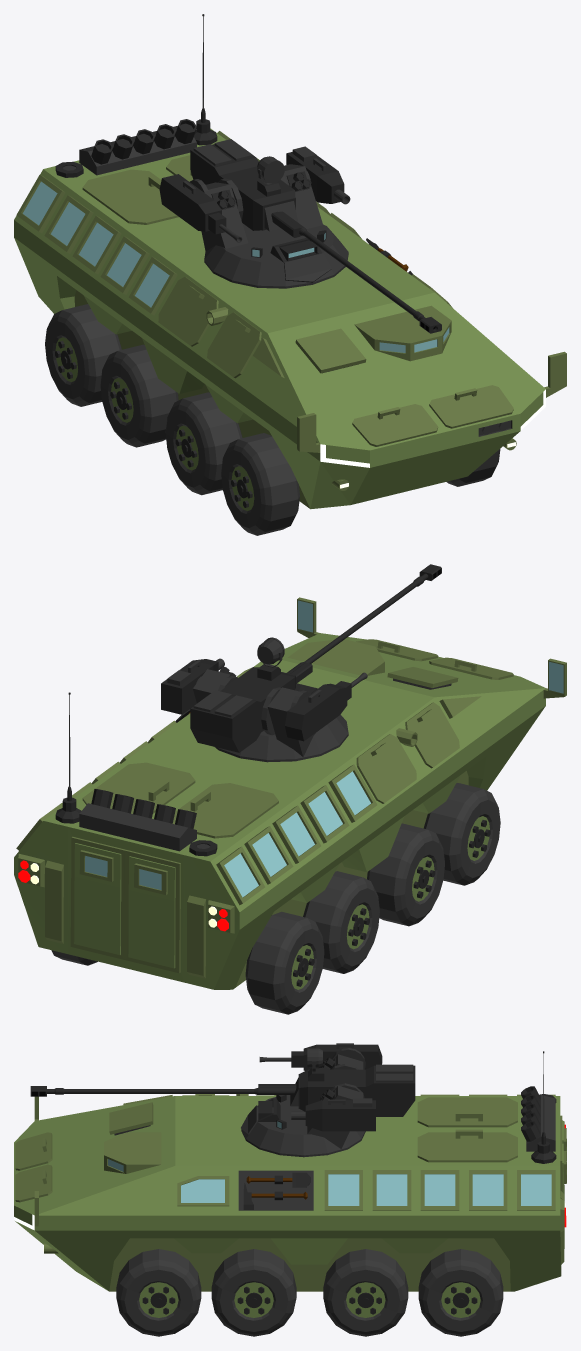
File: ifv.glb
3 views of the same model, one above another, from view 1: azimuth 30°, elevation 25°; view 2: azimuth 150°, elevation 25°; view 3: azimuth 270°, elevation 25° (orthographic). The views are drawn at different scales.
Parts seen in each view (by area): view 1: Cube18_81, Cylinder40_44, Cylinder19_copy20_79, Cylinder19_copy25_76, Cylinder19_copy22_77, Cylinder19_copy26_75, Cube43_41, Cylinder47_35, Cube54_28, Cube62_20, Cylinder44_40, Cube54_copy55_27 (+4 smaller); view 2: Cube18_81, Cylinder19_copy26_75, Cylinder19_copy22_77, Cube43_41, Cylinder19_copy25_76, Cylinder19_copy20_79, Cylinder40_44, Cube54_28, Cylinder47_35, Cube54_copy55_27, Cube15_copy16_66, Cube15_67 (+6 smaller); view 3: Cube18_81, Cylinder19_80, Cylinder19_copy28_73, Cylinder19_copy27_74, Cylinder19_copy21_78, Cube43_41, Cylinder40_44, Cube54_copy55_27, Cylinder47_35, Cylinder44_40, Cube54_28, Cube62_20 (+4 smaller).
Boxes of the visible parts, x1,y1,x2,y2 form: Cube18_81: [14, 126, 566, 509]; Cylinder40_44: [204, 223, 348, 288]; Cylinder19_copy20_79: [221, 433, 299, 535]; Cylinder19_copy25_76: [100, 344, 178, 447]; Cylinder19_copy22_77: [165, 392, 242, 495]; Cylinder19_copy26_75: [45, 304, 121, 406]; Cube43_41: [190, 139, 298, 231]; Cylinder47_35: [354, 305, 451, 361]; Cube54_28: [159, 174, 226, 234]; Cube62_20: [295, 328, 366, 373]; Cylinder44_40: [271, 211, 441, 333]; Cube54_copy55_27: [286, 146, 344, 203]; Cube18_81: [14, 597, 566, 989]; Cylinder19_copy26_75: [245, 911, 324, 1014]; Cylinder19_copy22_77: [367, 823, 444, 926]; Cube43_41: [190, 664, 296, 752]; Cylinder19_copy25_76: [303, 871, 379, 973]; Cylinder19_copy20_79: [423, 783, 500, 885]; Cylinder40_44: [215, 683, 348, 762]; Cube54_28: [285, 681, 351, 741]; Cylinder47_35: [287, 639, 384, 675]; Cube54_copy55_27: [161, 659, 218, 714]; Cube15_copy16_66: [187, 895, 206, 978]; Cube15_67: [45, 860, 63, 943]; Cube18_81: [14, 1094, 566, 1291]; Cylinder19_80: [116, 1249, 201, 1336]; Cylinder19_copy28_73: [418, 1249, 503, 1336]; Cylinder19_copy27_74: [323, 1249, 408, 1336]; Cylinder19_copy21_78: [211, 1249, 296, 1336]; Cube43_41: [290, 1064, 415, 1116]; Cylinder40_44: [241, 1095, 365, 1157]; Cube54_copy55_27: [305, 1098, 375, 1131]; Cylinder47_35: [104, 1132, 161, 1173]; Cylinder44_40: [30, 1084, 296, 1096]; Cube54_28: [291, 1044, 382, 1070]; Cube62_20: [109, 1102, 153, 1135].
Bounding box in the file's own units: 6.4 × 7.08 × 13.36.
